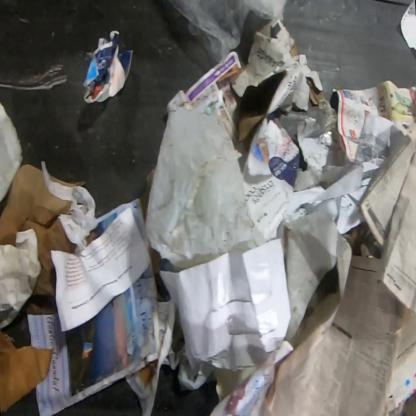cardboard: (229, 20, 327, 142), (0, 163, 78, 298), (0, 330, 55, 414), (48, 174, 86, 188)
soft_plastic: (167, 0, 290, 65)
